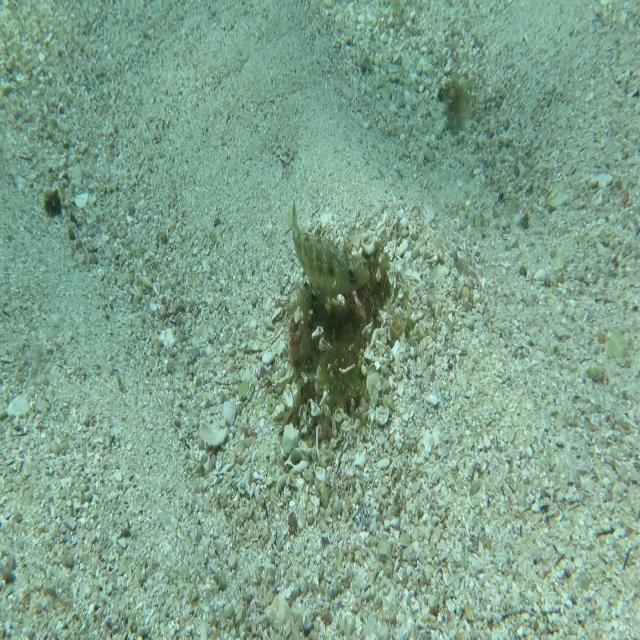FAN: (274, 191, 369, 291)
nest: (270, 216, 400, 424)
vegetation: (439, 65, 467, 133), (42, 185, 64, 217)
